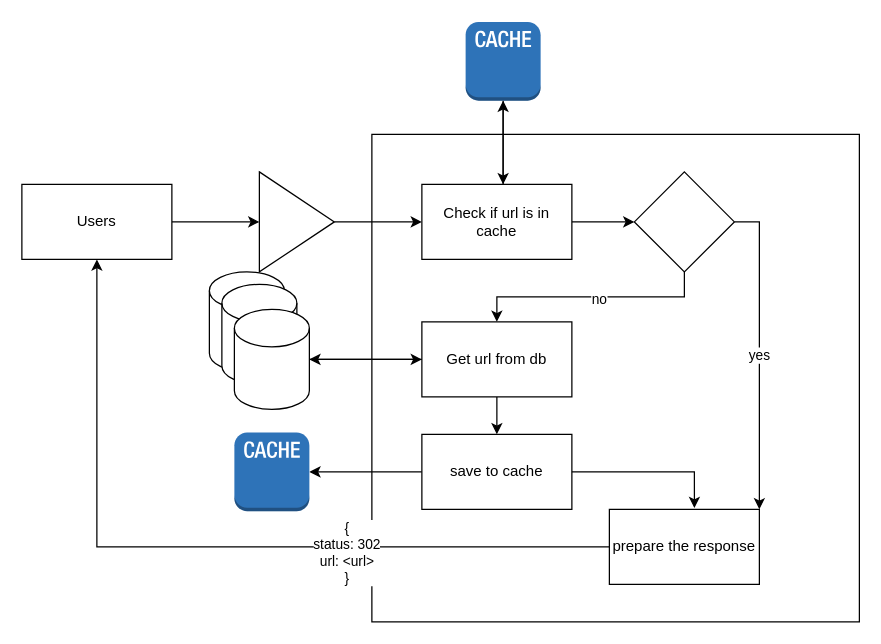
Some shapes in this 881 by 644 pixel diagram are drawn without their labels. The centre of each missing label's shape, as x and y in pixels:
"DB" goes at [271,358].
"LB" goes at [296,221].
"Object Found" goes at [683,221].
